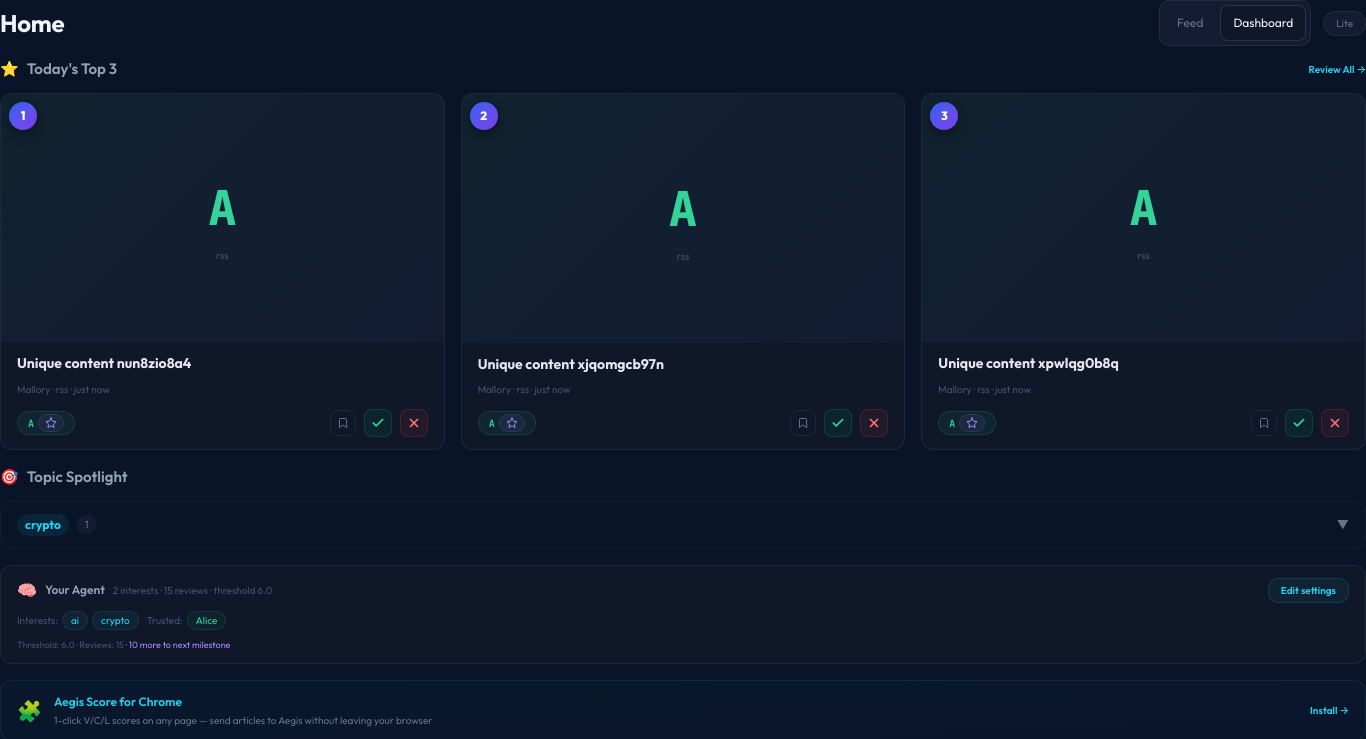
Scenario: Feedback loop — agent learned messages › shows feedback message after flagging an item
Click the 1st button named "Flag as slop": (414, 423) top-left (400, 409), bottom-right (428, 437)
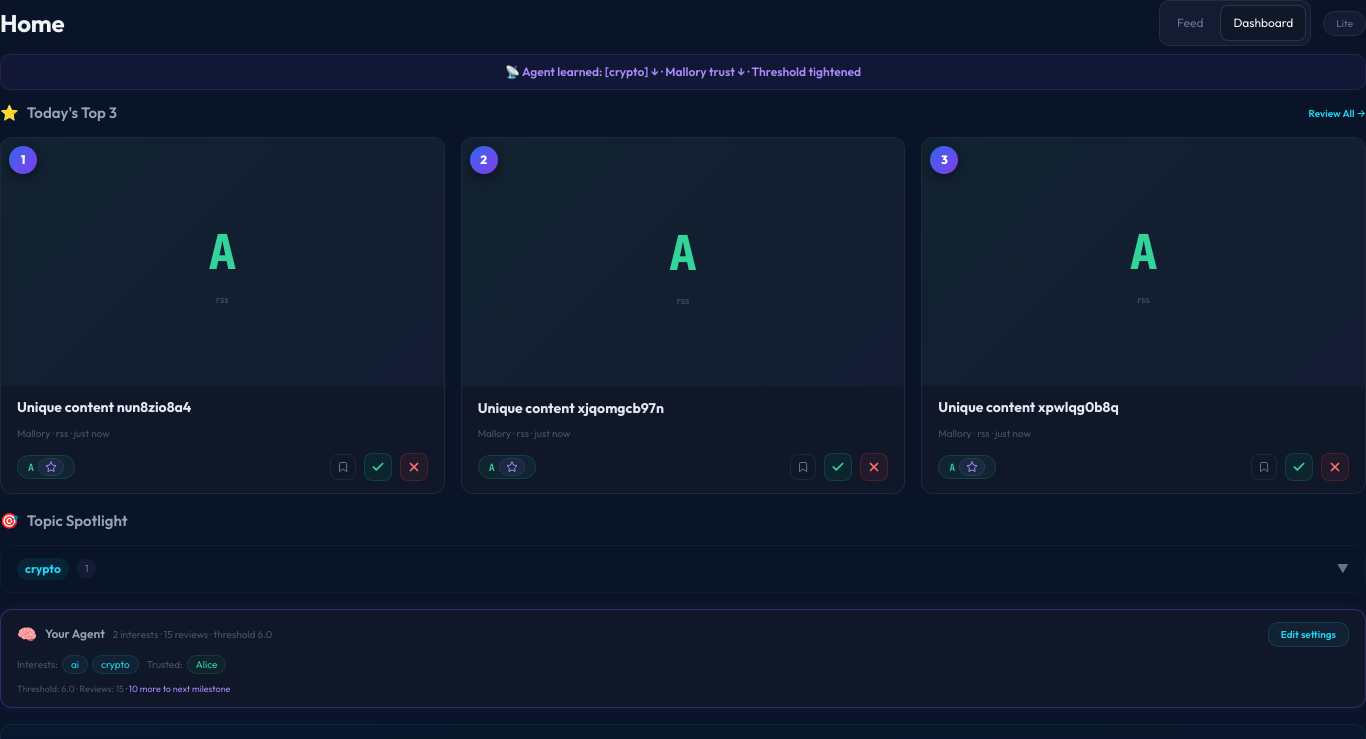
Expected: the text "Agent learned" is shown, top-left (505, 64), bottom-right (605, 79)
